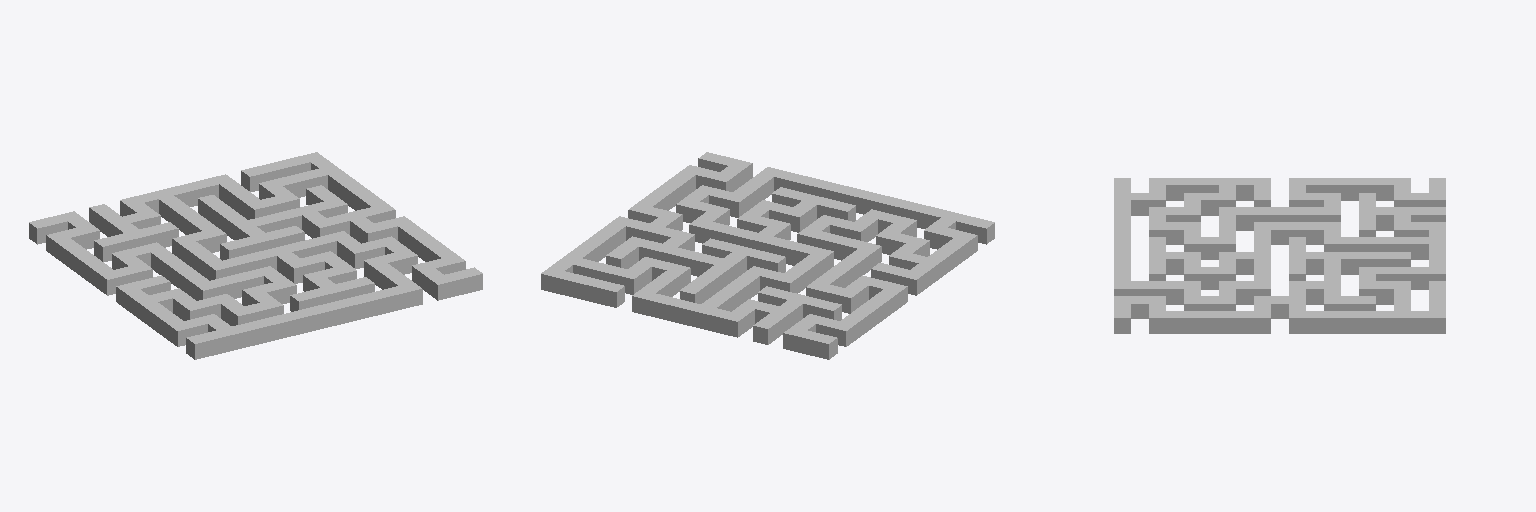
The model's file is recursive-backtracking-maze-example.obj.
3 renders of one model, left to right at view 1: azimuth 30°, elevation 25°; view 2: azimuth 150°, elevation 25°; view 3: azimuth 270°, elevation 25°, orthographic.
Visible parts, largest first — view 1: Cube; view 2: Cube; view 3: Cube.
Part boxes in pixels (left/top/right/bottom): Cube: left=29, top=152, right=482, bottom=359; Cube: left=541, top=152, right=994, bottom=359; Cube: left=1114, top=178, right=1445, bottom=333.
Bounding box in the file's own units: 38 × 2 × 38.